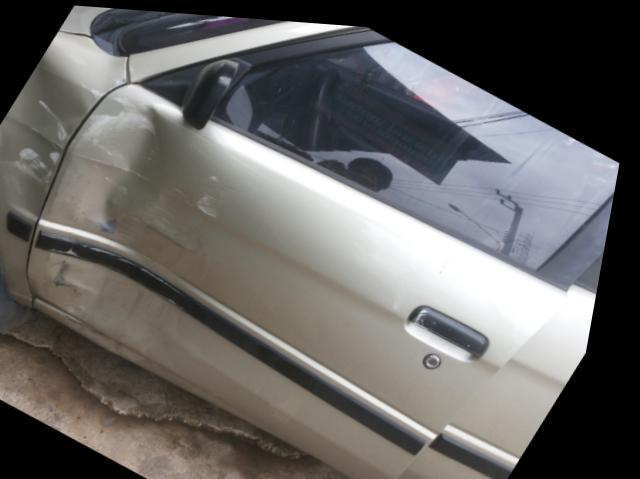dent: (43, 101, 214, 356), (0, 58, 88, 217)
scratch: (199, 170, 231, 215)
